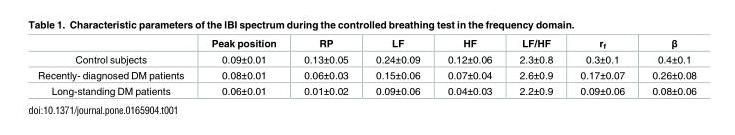table: (37, 36, 695, 96)
table column: (37, 36, 197, 96), (197, 36, 289, 96), (289, 36, 361, 96), (361, 36, 433, 96), (433, 36, 505, 96), (565, 36, 637, 96), (505, 36, 565, 96), (637, 36, 695, 96)
table column header: (37, 36, 695, 51)
table row: (37, 66, 695, 82), (37, 36, 695, 51), (37, 51, 695, 66), (37, 82, 695, 96)
